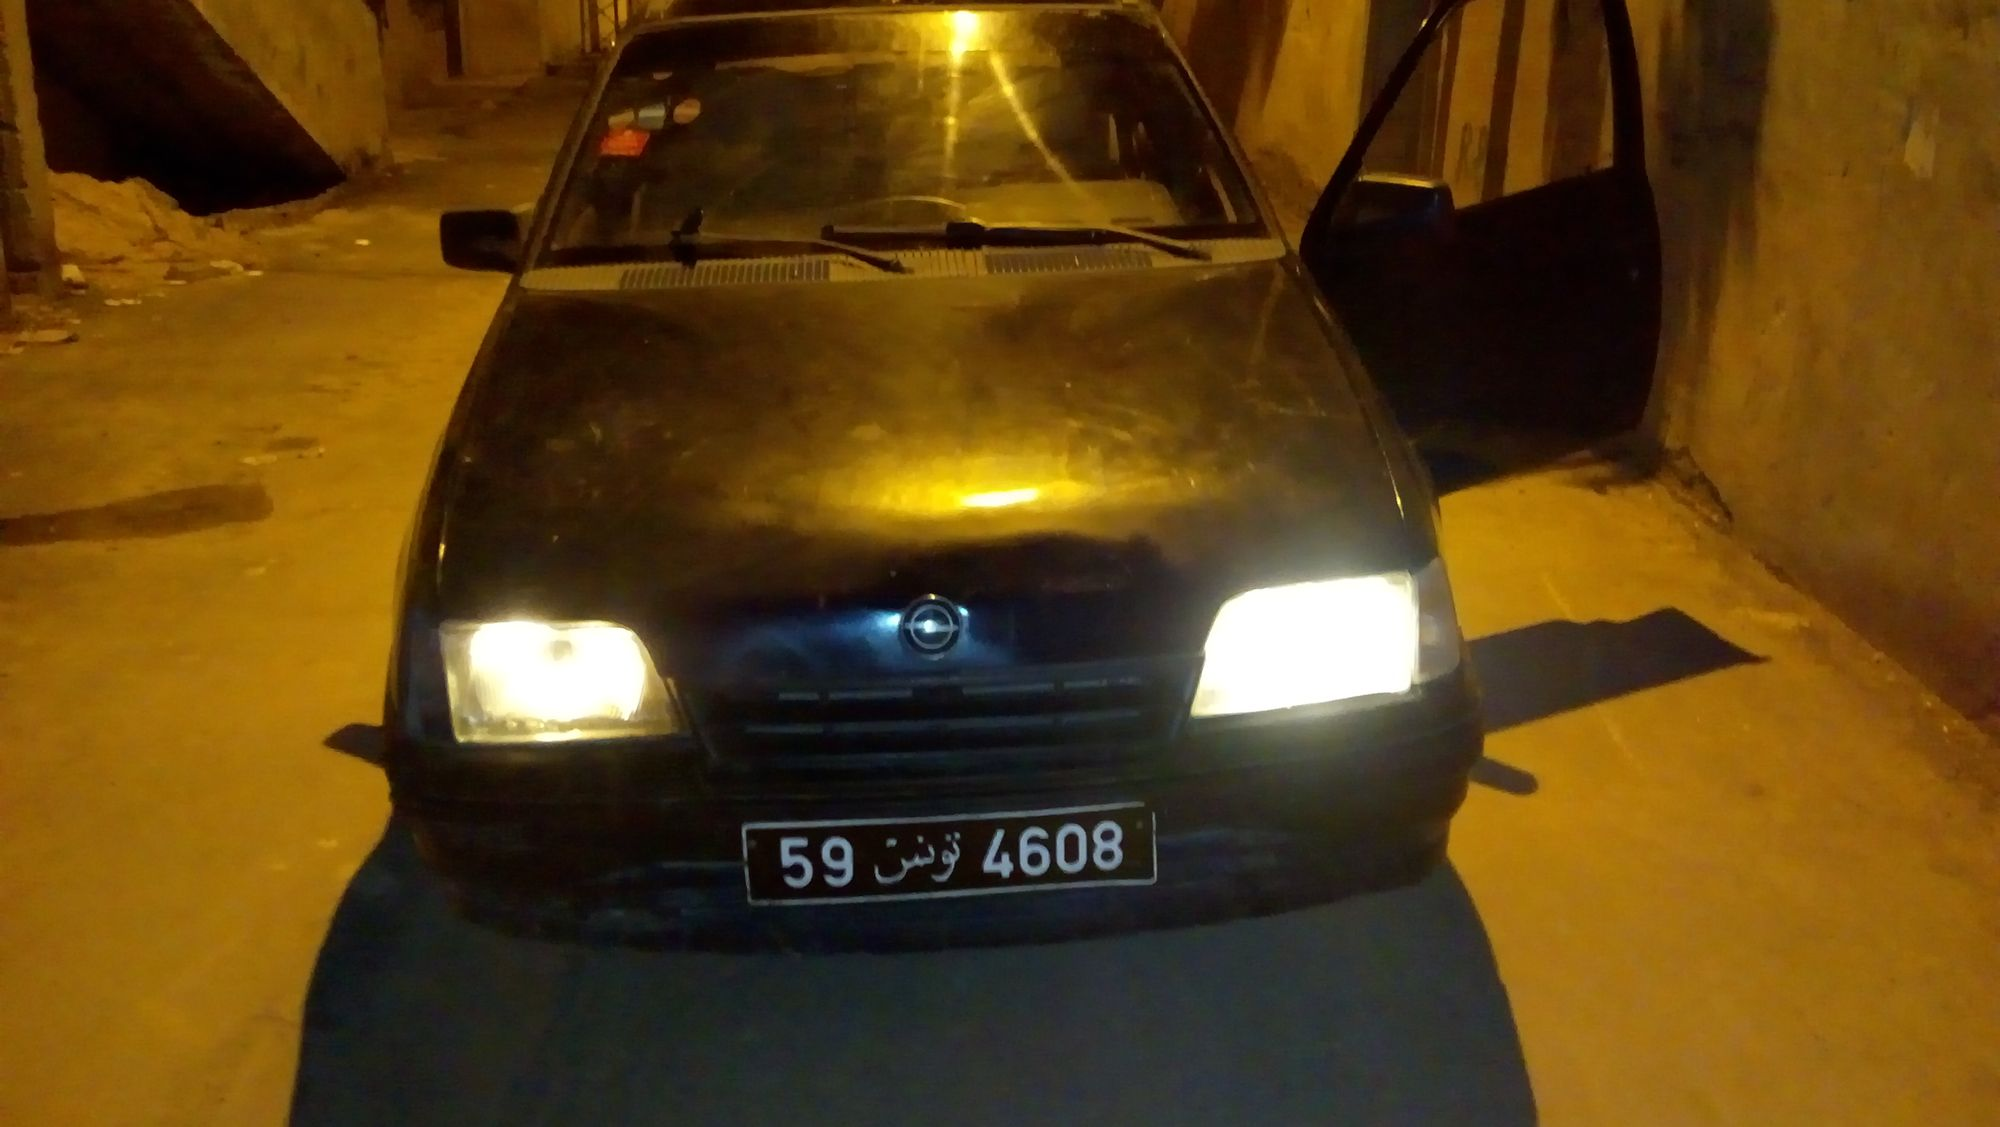LP: (735, 802, 1165, 906)
